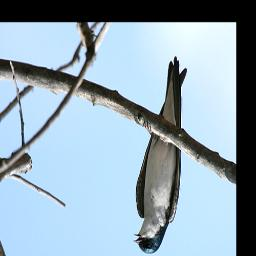Swallow: (132, 56, 187, 254)
